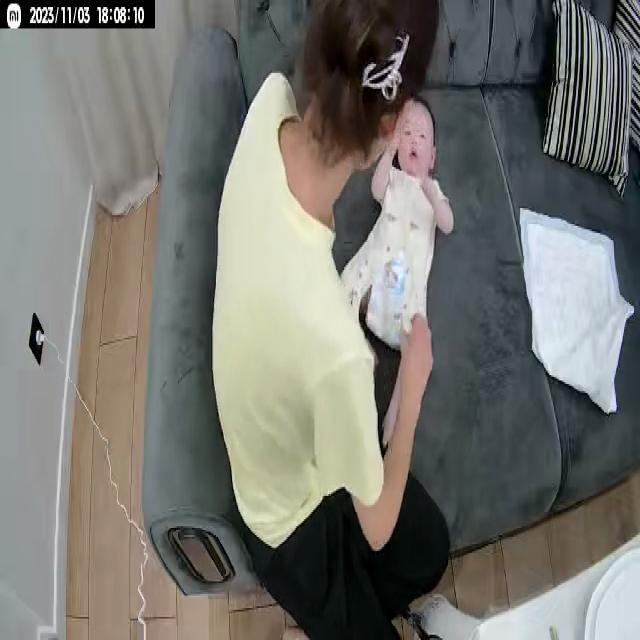baby: (340, 95, 454, 442)
